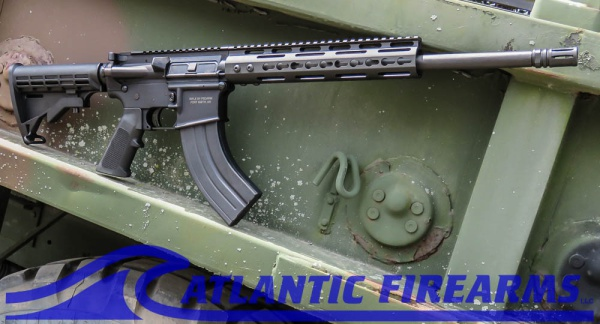ak47: (13, 36, 578, 224)
